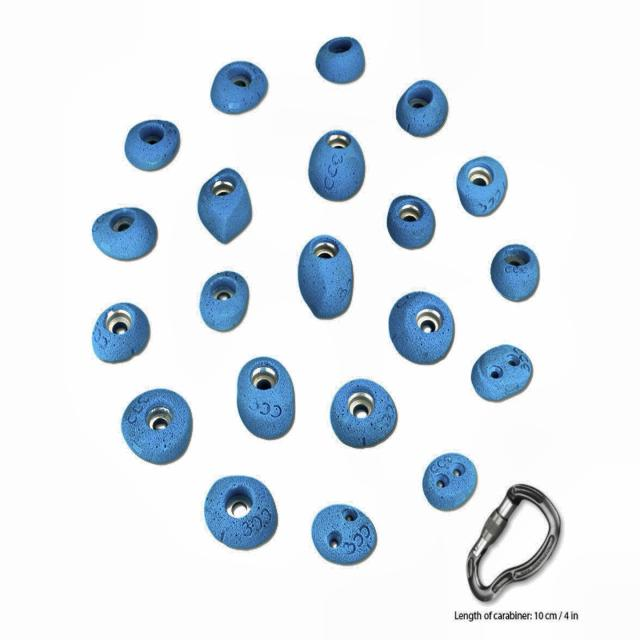Hold: (118, 388, 195, 468), (203, 473, 276, 552), (386, 287, 456, 364), (238, 354, 297, 441), (329, 379, 400, 451), (307, 500, 379, 570), (194, 166, 256, 246), (298, 236, 355, 322), (304, 127, 364, 205), (86, 299, 154, 367), (420, 448, 481, 516), (90, 204, 158, 264), (471, 342, 534, 405), (391, 76, 455, 138), (209, 59, 272, 117), (199, 270, 250, 336), (457, 155, 508, 218), (490, 242, 540, 304), (123, 117, 178, 170), (312, 33, 367, 83), (387, 193, 436, 249)
